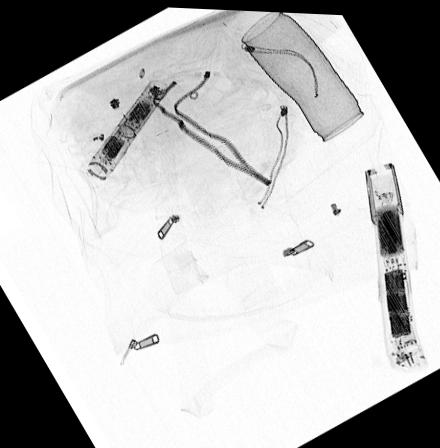Baton: (363, 157, 425, 367), (85, 78, 168, 179)
